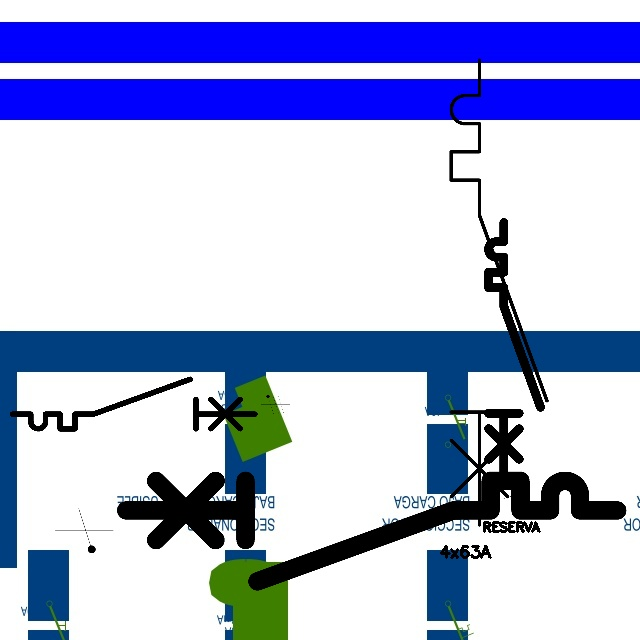interruptor_termomagnetico: (113, 468, 629, 594), (439, 48, 558, 537), (482, 216, 547, 481), (6, 373, 261, 435)
